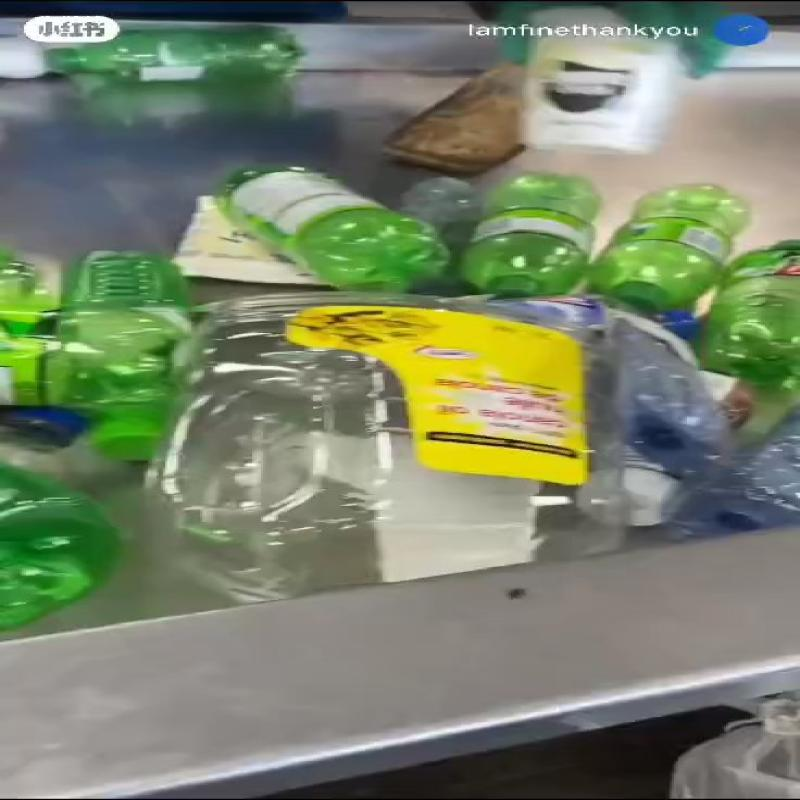botella: (50, 255, 207, 462), (225, 156, 435, 290), (439, 163, 599, 302), (594, 178, 744, 320), (0, 462, 123, 625), (705, 222, 800, 375)
